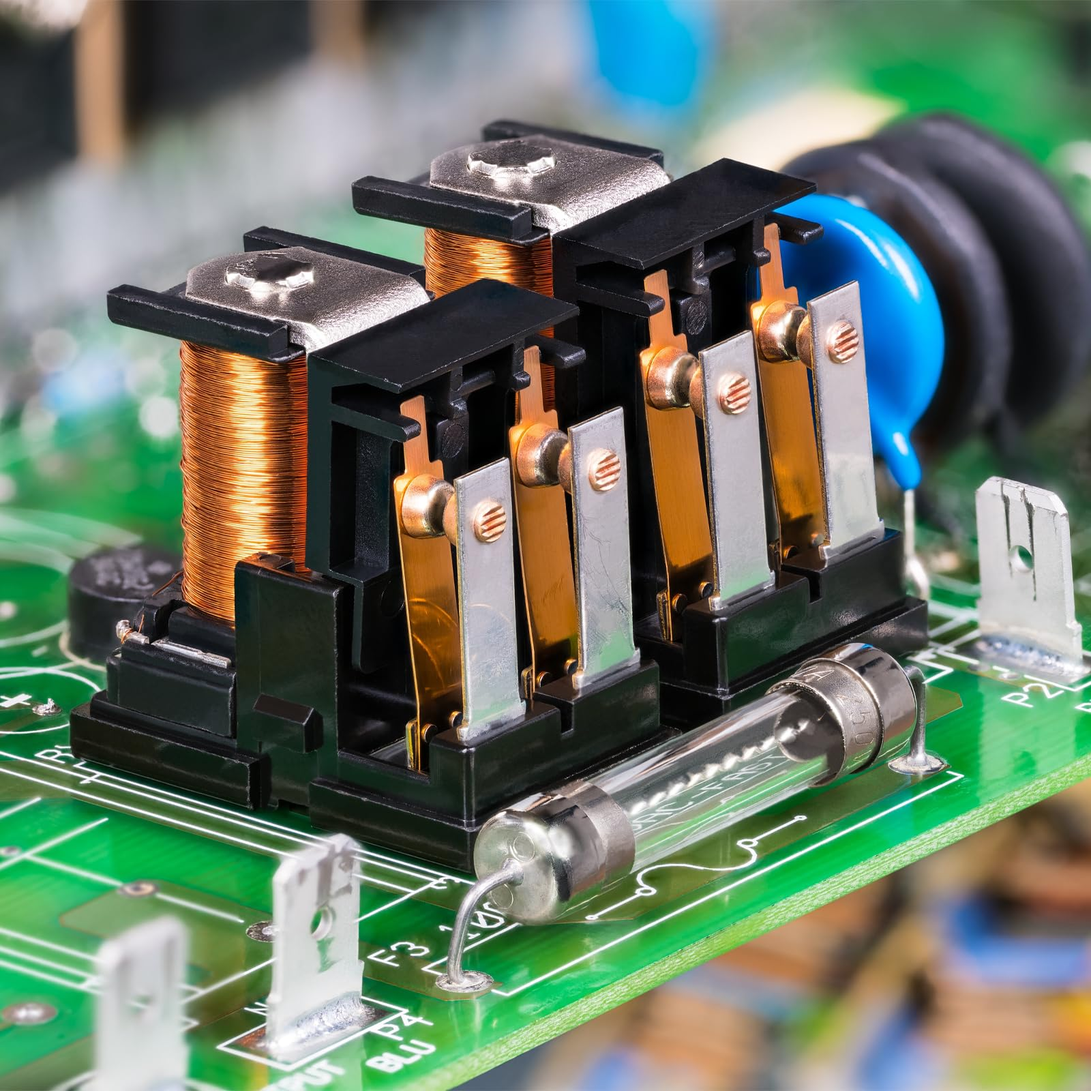Fuse: (457, 631, 936, 925)
